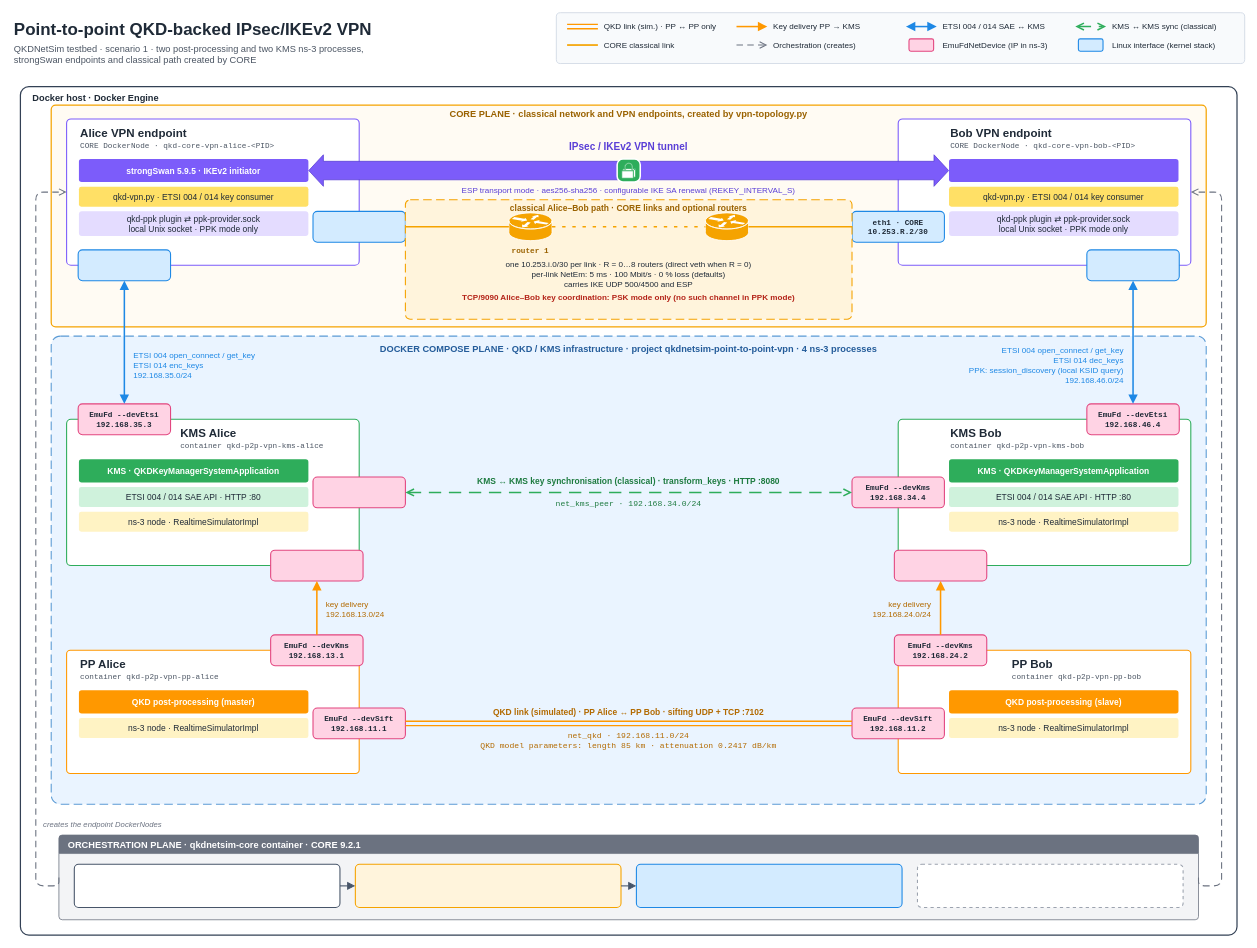
This 1257x948 diagram has some shape labels left out. The centre of each missing label's shape, as x and y in pixels:
/var/run/docker.sock host Docker Engine creates the endpoints: (768,885)
CORE runtime DockerNode · routers · per-link NetEm: (487,885)
core-daemon · gRPC :50051 external API, not used by the runners: (1050,885)
EmuFd --devKms 192.168.34.3: (359,492)
EmuFd --devPP 192.168.13.3: (316,565)
EmuFd --devPP 192.168.24.4: (940,565)
eth0 · Docker 192.168.35.5: (124,265)
eth0 · Docker 192.168.46.6: (1132,265)
eth1 · CORE 10.253.0.1/30: (359,226)
router R: (727,226)
strongSwan 5.9.5 · IKEv2 responder: (1063,170)
vpn-topology.py embedded CoreEmu session: (206,885)
